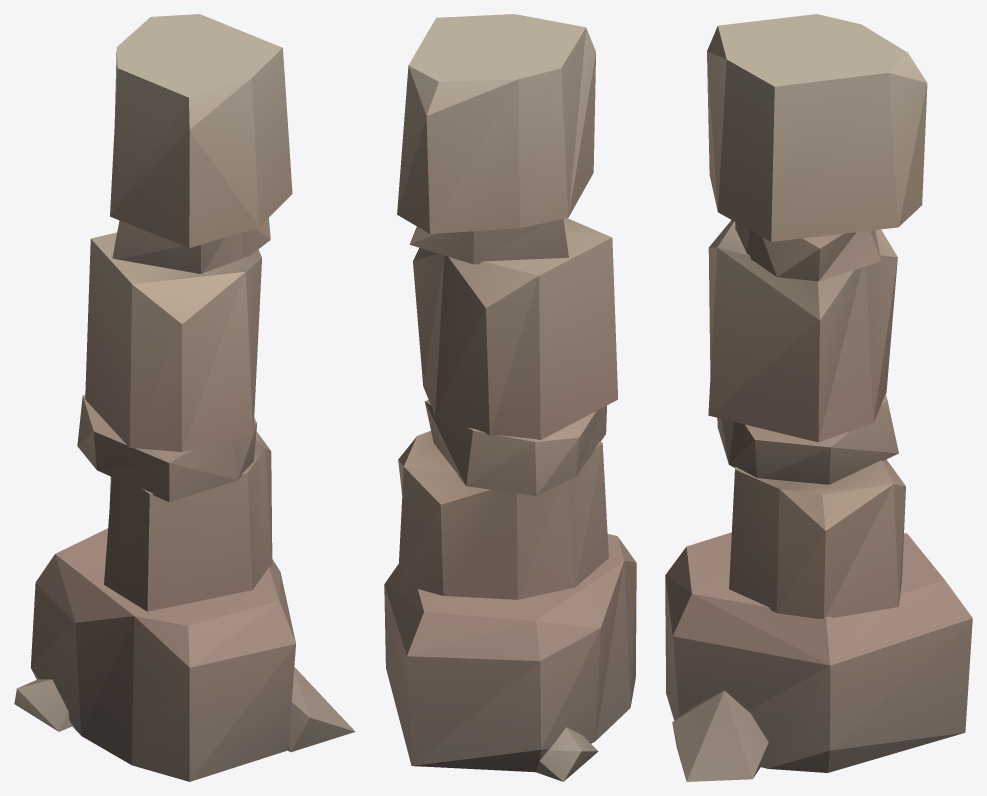
Rendered from rock_3.lod1.glb.
3 views of the same model, side by side, from view 1: azimuth 30°, elevation 25°; view 2: azimuth 150°, elevation 25°; view 3: azimuth 270°, elevation 25° (orthographic). The views are drawn at different scales.
Bounding box in the file's own units: 1.68 × 4.5 × 1.84.
